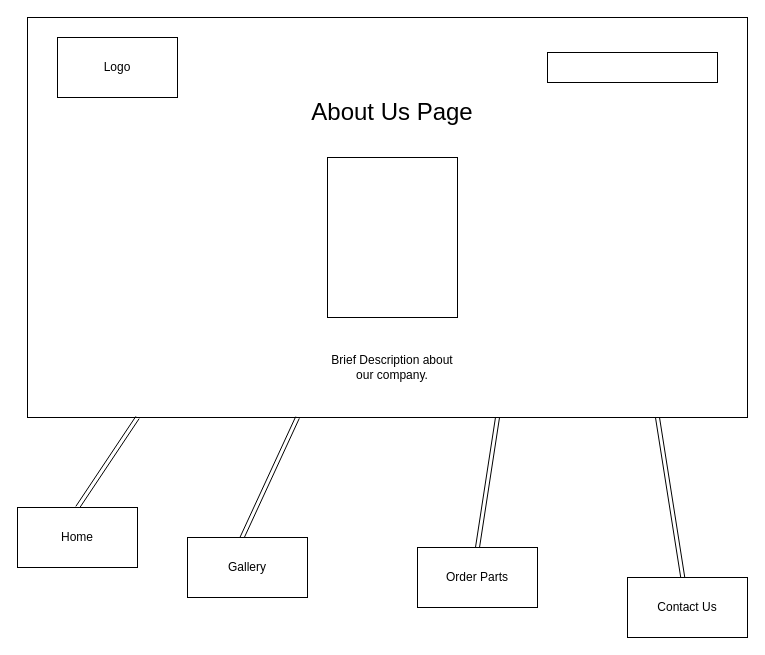
The diagram is 765 pixels wide and 655 high, and some of its shapes have lost their labels. Here are the shapes that lost their labels. From the top down, the box of each, then its label:
(546, 52, 718, 82): Nav Bar
(326, 156, 458, 318): Image Slide Show
